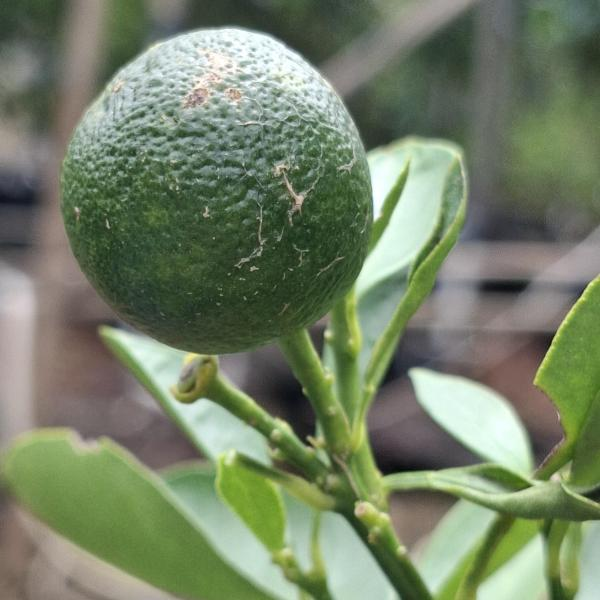Scab: (46, 23, 393, 372)
